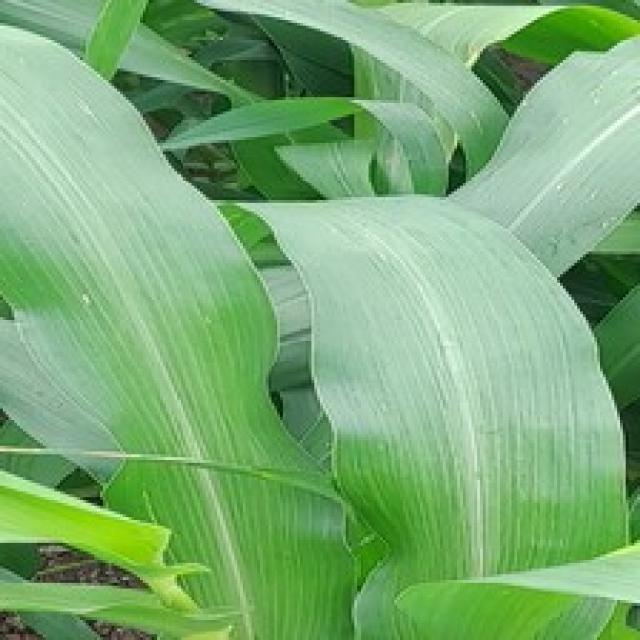Corn: (0, 0, 637, 637), (226, 189, 634, 637)
